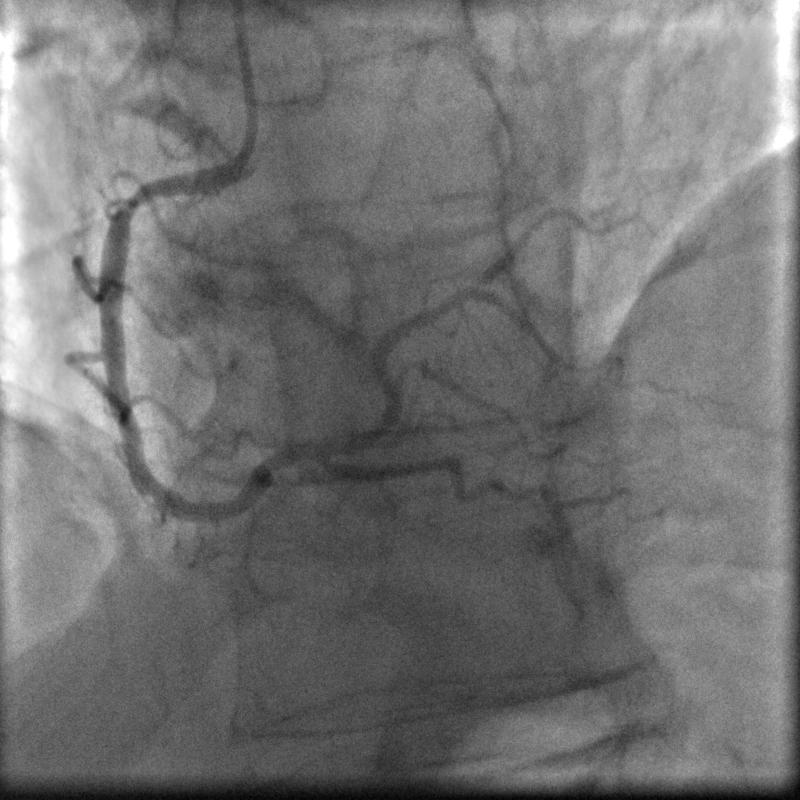Stenosis: (115, 185, 162, 216)
